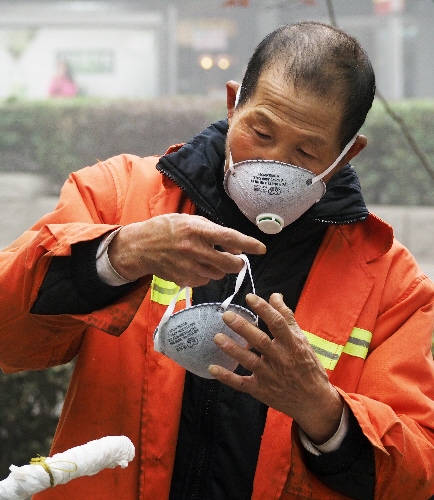face_mask: (227, 67, 340, 227)
